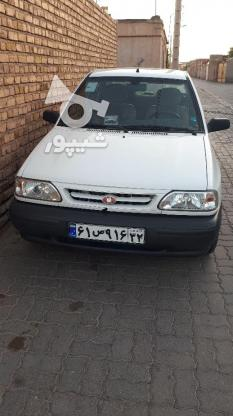car: (70, 222, 145, 246)
